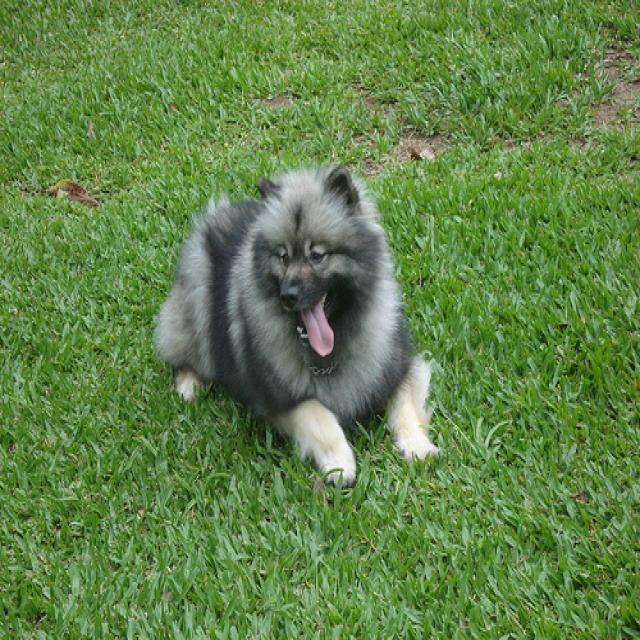dog-keeshond: (142, 160, 445, 500)
